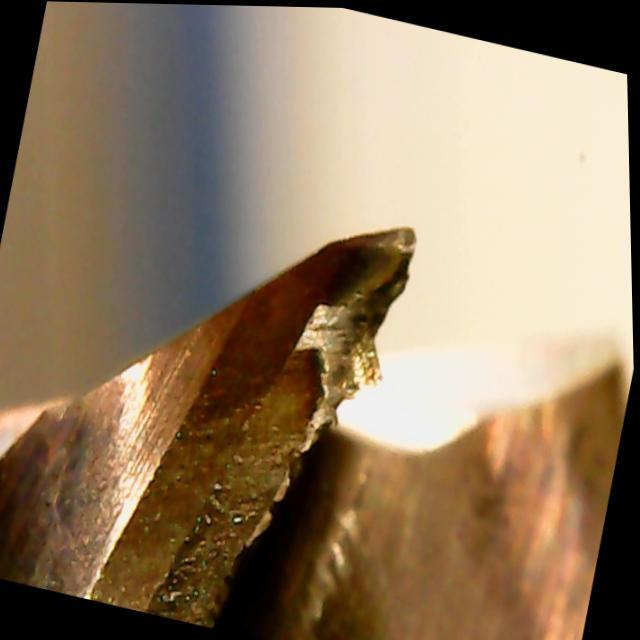Tool-wear-class-3: (220, 181, 446, 452)
